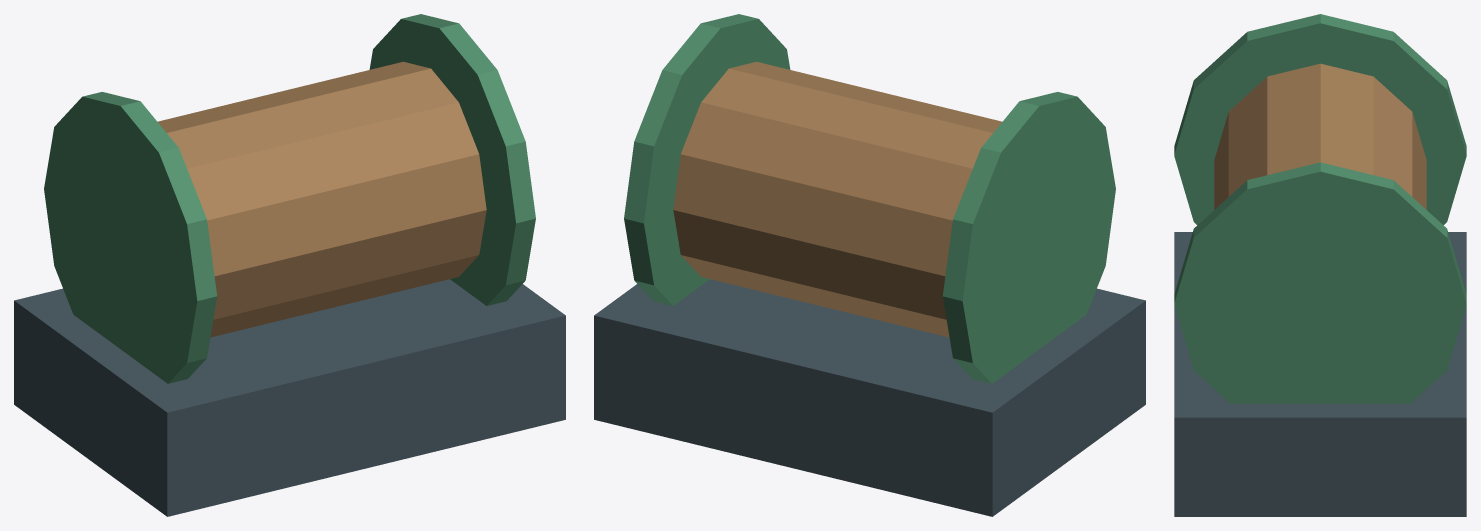
The model's file is dock_winch.glb.
The picture shows the model from 3 angles, left to right: view 1: azimuth 30°, elevation 25°; view 2: azimuth 150°, elevation 25°; view 3: azimuth 270°, elevation 25°; orthographic projection. The views are drawn at different scales.
Visible parts, largest first — view 1: dock_winch; view 2: dock_winch; view 3: dock_winch.
Boxes of the visible parts, left/top/right/bottom form: dock_winch: left=14, top=14, right=565, bottom=516; dock_winch: left=594, top=14, right=1145, bottom=516; dock_winch: left=1174, top=14, right=1466, bottom=516.
Bounding box in the file's own units: 1.2 × 1 × 0.8.
